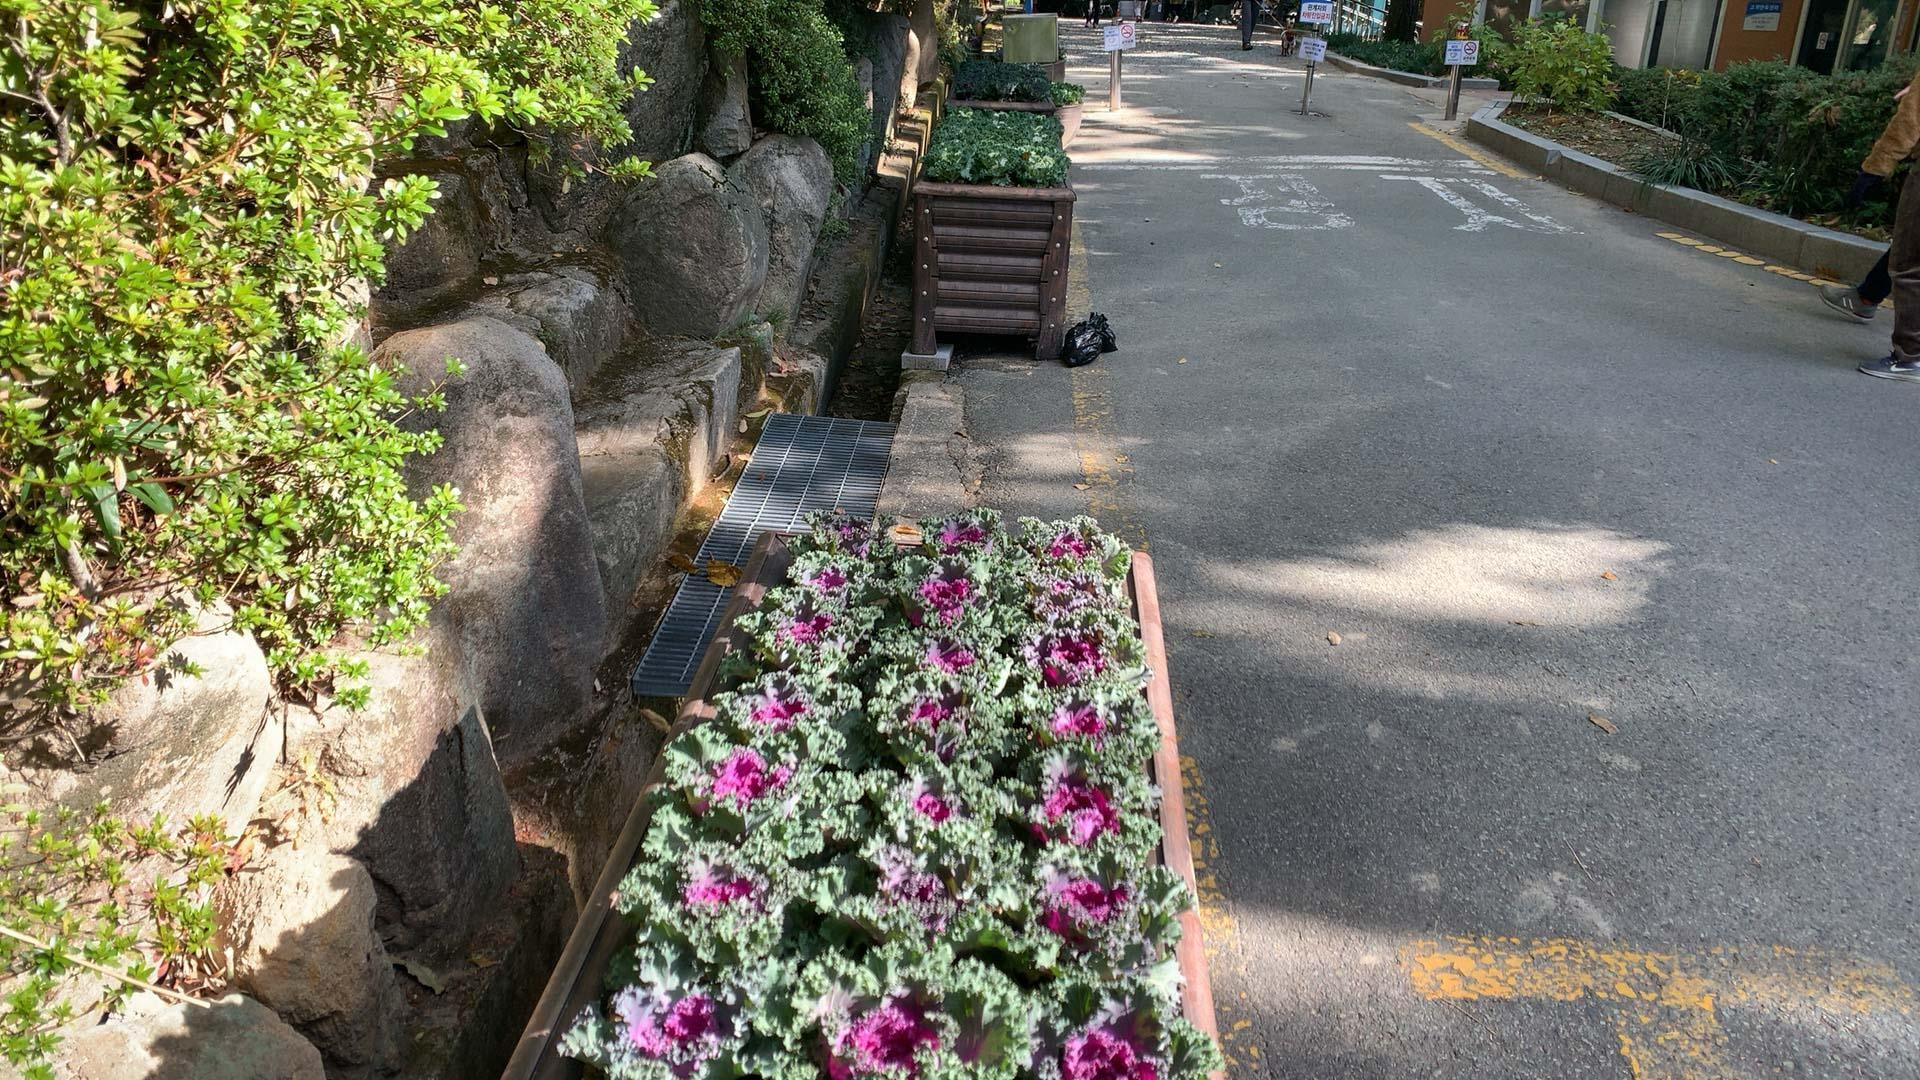black_bag: (1058, 307, 1124, 367)
